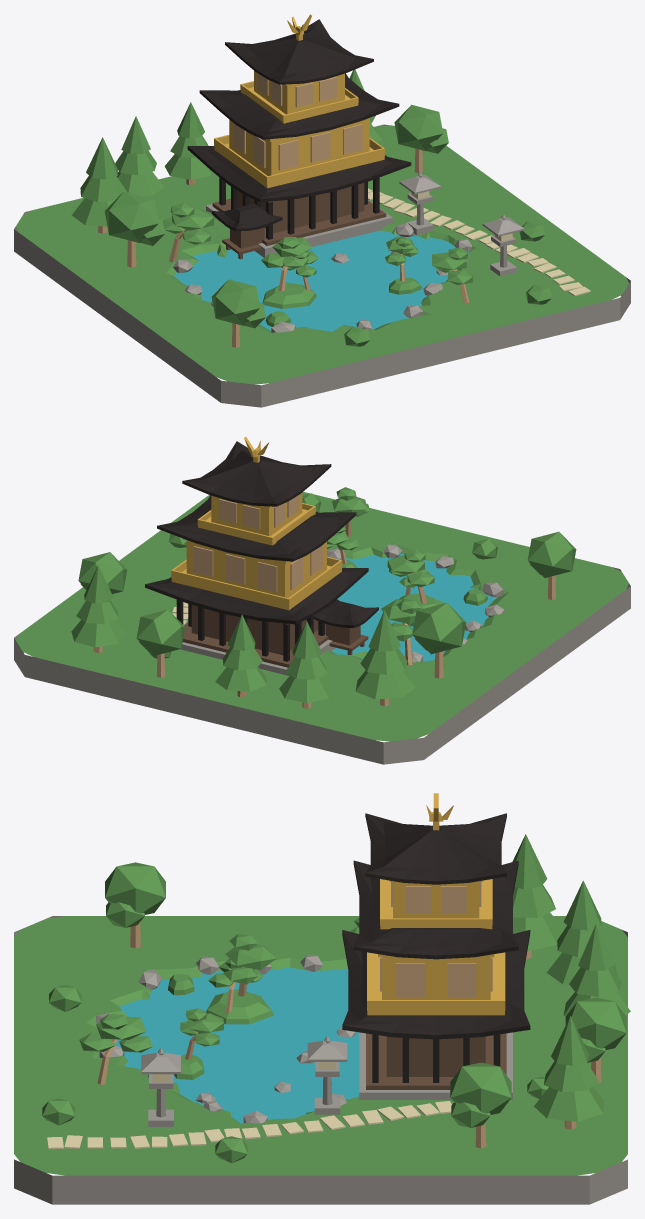
File: kinkaku-ji.glb
3 views of the same model, one above another, from view 1: azimuth 30°, elevation 25°; view 2: azimuth 150°, elevation 25°; view 3: azimuth 270°, elevation 25° (orthographic). The views are drawn at different scales.
Parts seen in each view (by area): view 1: kinkaku_foliage, kinkaku_stone, kinkaku_roof, kinkaku_water, kinkaku_gold, kinkaku_wood, kinkaku_darkwood, kinkaku_cream; view 2: kinkaku_foliage, kinkaku_stone, kinkaku_roof, kinkaku_gold, kinkaku_water, kinkaku_wood, kinkaku_darkwood; view 3: kinkaku_foliage, kinkaku_stone, kinkaku_roof, kinkaku_water, kinkaku_gold, kinkaku_wood, kinkaku_darkwood, kinkaku_cream.
Part boxes in pixels (x1,y1,x2,y2): kinkaku_foliage: (16, 69, 628, 384); kinkaku_stone: (14, 124, 630, 407); kinkaku_roof: (187, 19, 411, 239); kinkaku_water: (174, 230, 468, 331); kinkaku_gold: (214, 14, 384, 188); kinkaku_wood: (98, 73, 469, 347); kinkaku_darkwood: (212, 183, 386, 259); kinkaku_cream: (368, 188, 590, 296); kinkaku_foliage: (16, 487, 628, 741); kinkaku_stone: (14, 544, 630, 764); kinkaku_roof: (145, 441, 378, 661); kinkaku_gold: (171, 436, 342, 610); kinkaku_water: (332, 553, 497, 661); kinkaku_wood: (93, 495, 555, 708); kinkaku_darkwood: (182, 605, 368, 667); kinkaku_foliage: (14, 834, 630, 1175); kinkaku_stone: (14, 916, 627, 1204); kinkaku_roof: (342, 813, 530, 1082); kinkaku_water: (115, 967, 359, 1123); kinkaku_gold: (367, 793, 505, 1015); kinkaku_wood: (97, 882, 601, 1148); kinkaku_darkwood: (366, 1033, 506, 1089); kinkaku_cream: (47, 1101, 453, 1149).
Size of the model in its own units: 19.2 by 9.92 by 19.29.
